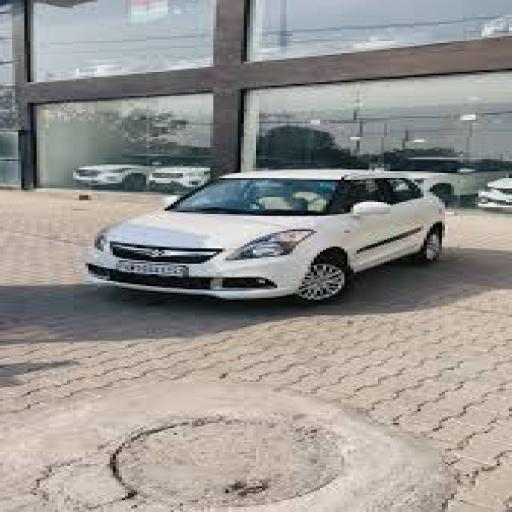License: (112, 258, 198, 277)
